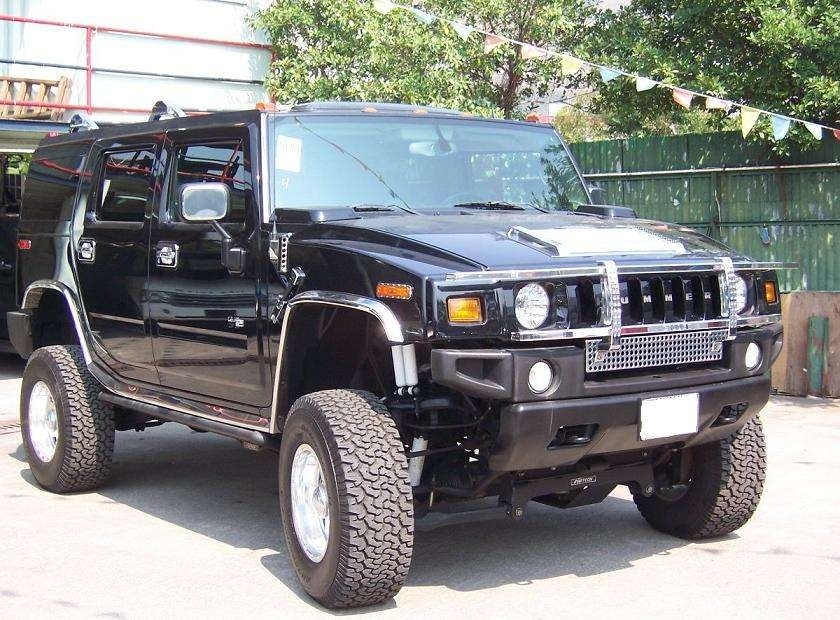jeep: (29, 97, 796, 608)
